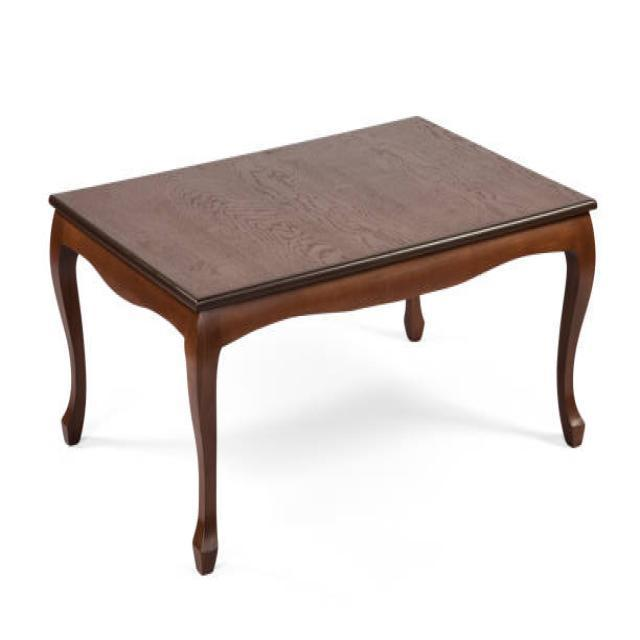table: (47, 111, 598, 576)
